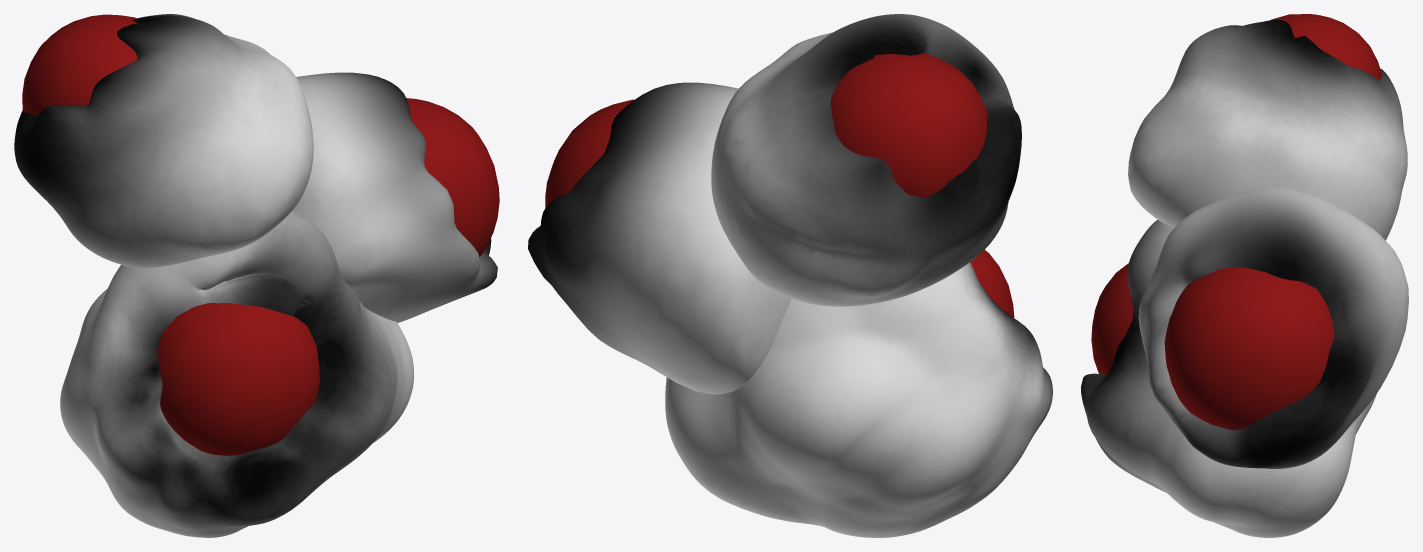
File: example-test.glb
The picture shows the model from 3 angles, left to right: view 1: azimuth 30°, elevation 25°; view 2: azimuth 150°, elevation 25°; view 3: azimuth 270°, elevation 25°; orthographic projection. The views are drawn at different scales.
Parts seen in each view (by area): view 1: Sphere (×2); view 2: Sphere (×2); view 3: Sphere (×2).
Boxes of the visible parts, x1,y1,x2,y2 form: Sphere (×2): (14, 14, 499, 537); Sphere (×2): (528, 14, 1052, 537); Sphere (×2): (1081, 14, 1408, 537).
Bounding box in the file's own units: 1.84 × 1.93 × 1.23.
